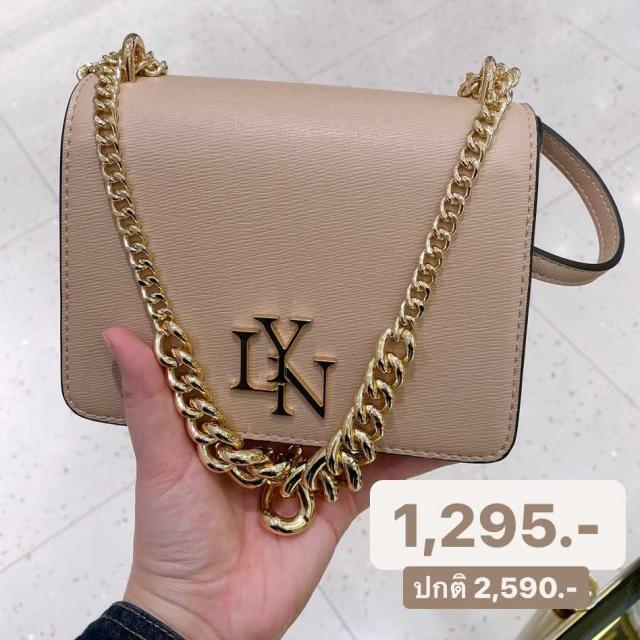Handbag: (57, 54, 546, 472)
